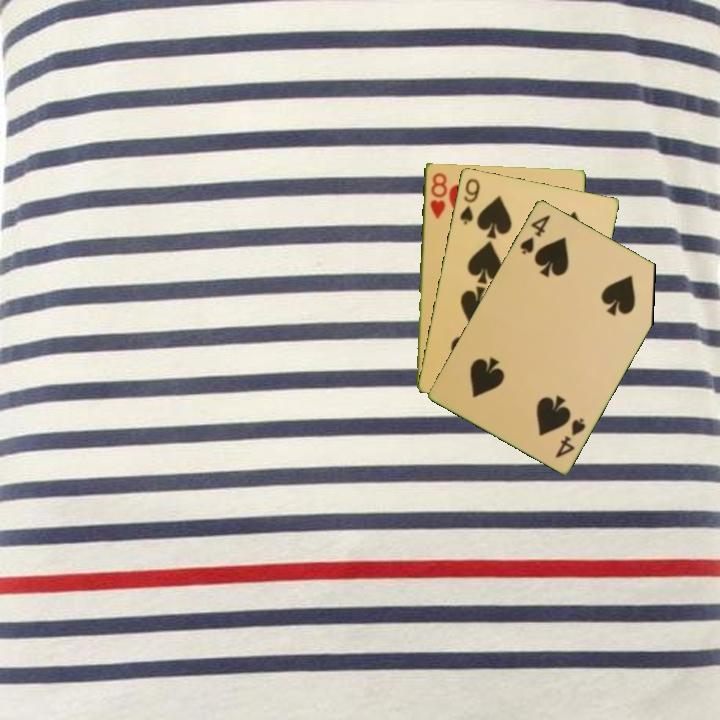4s: (551, 414, 588, 461), (516, 211, 553, 257)
8h: (426, 169, 449, 221)
9s: (456, 175, 483, 227)
